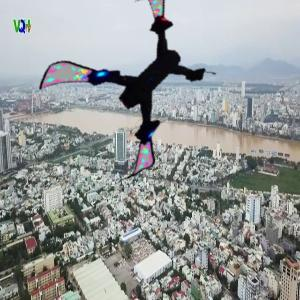drone: (57, 13, 218, 174)
